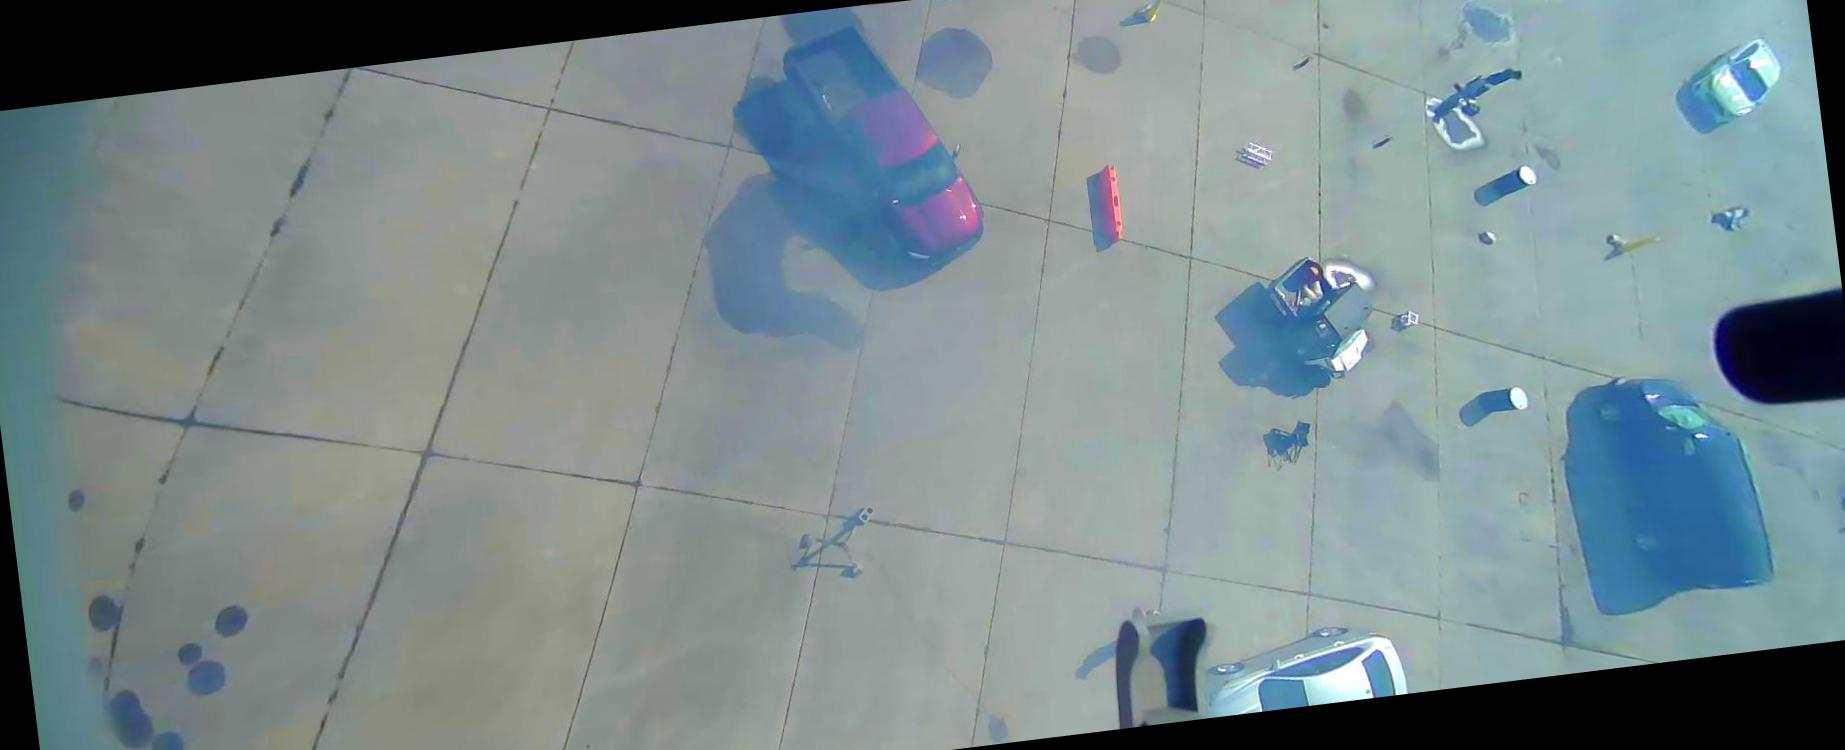vehicle: (775, 9, 992, 284), (1592, 360, 1777, 600), (1192, 617, 1408, 717), (1259, 247, 1380, 389), (1681, 33, 1787, 128)
